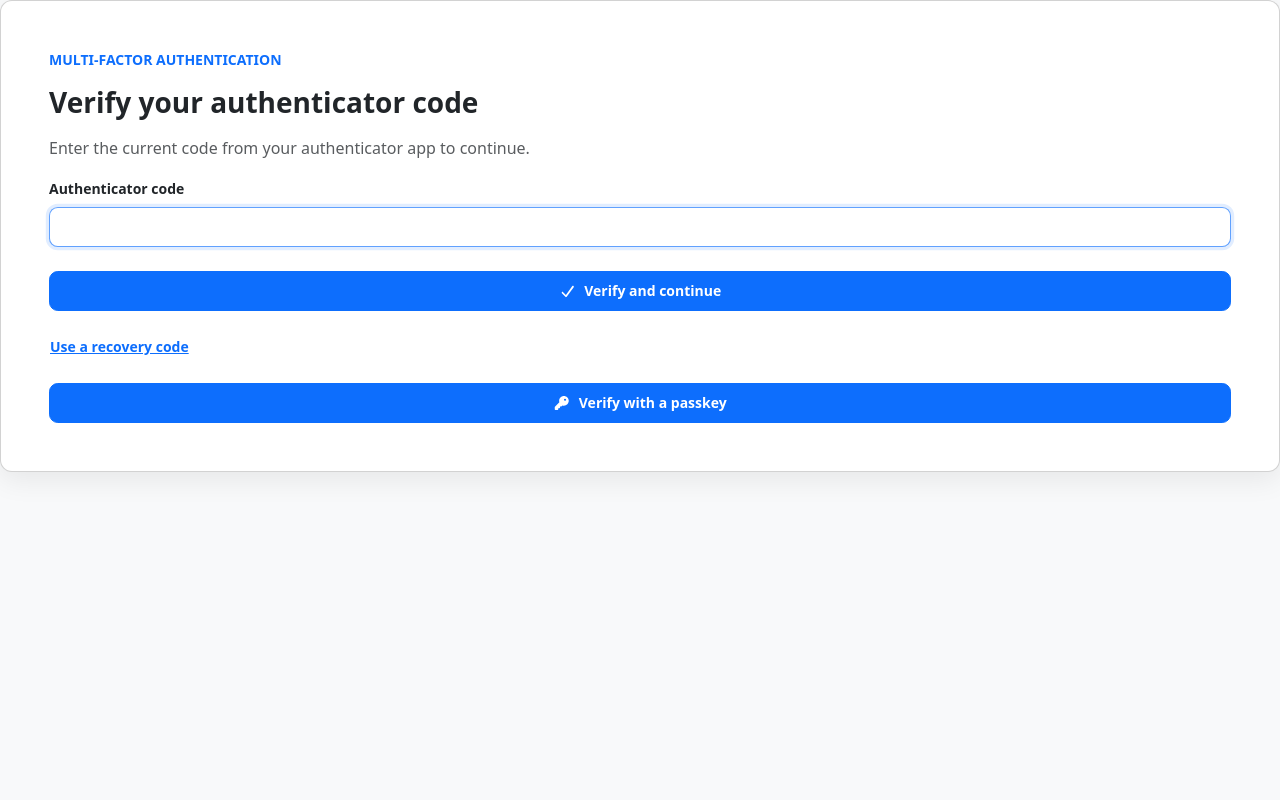
Test: MFA authentication pages › shows the fallback response message and catches a failed request
Type "123456" into the field labelled "Authenticator code" at (640, 227), box [49,207,1231,247]
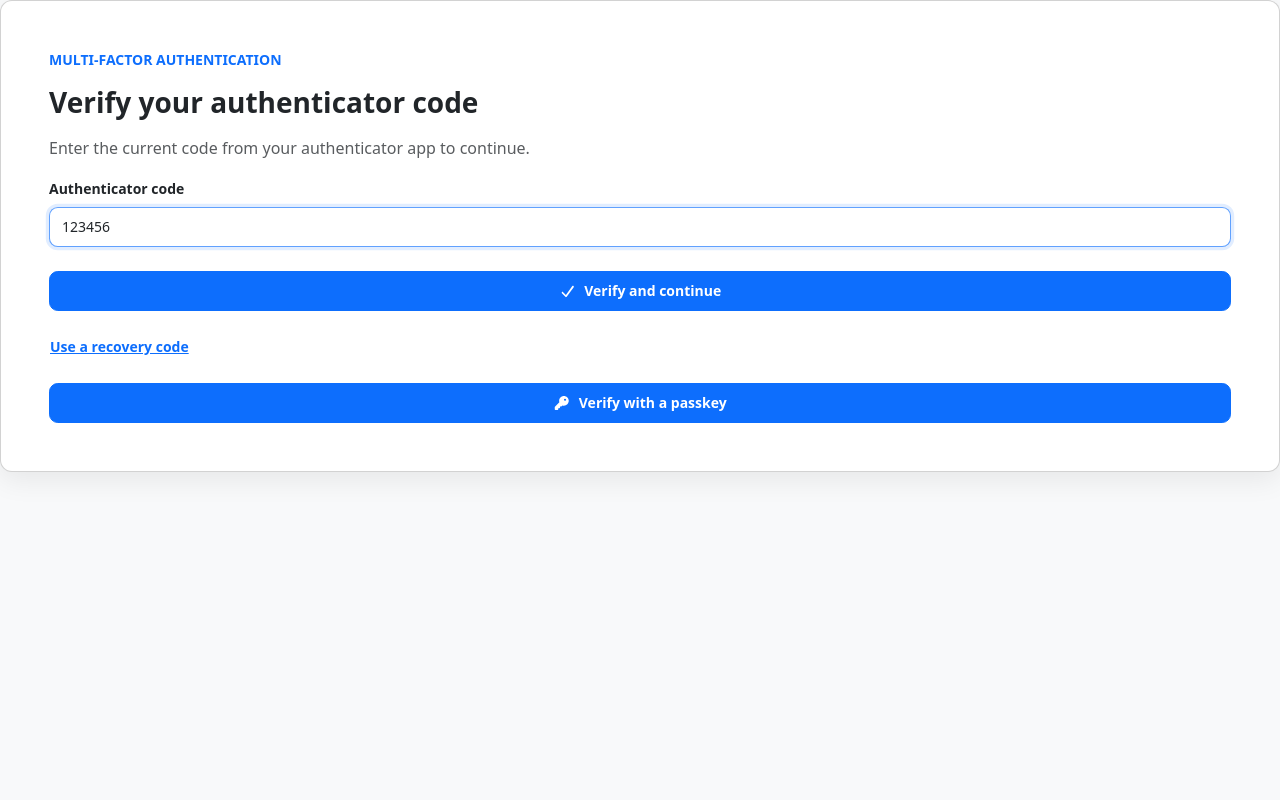
Click the button "Verify and continue" at (640, 291), box [49,271,1231,311]
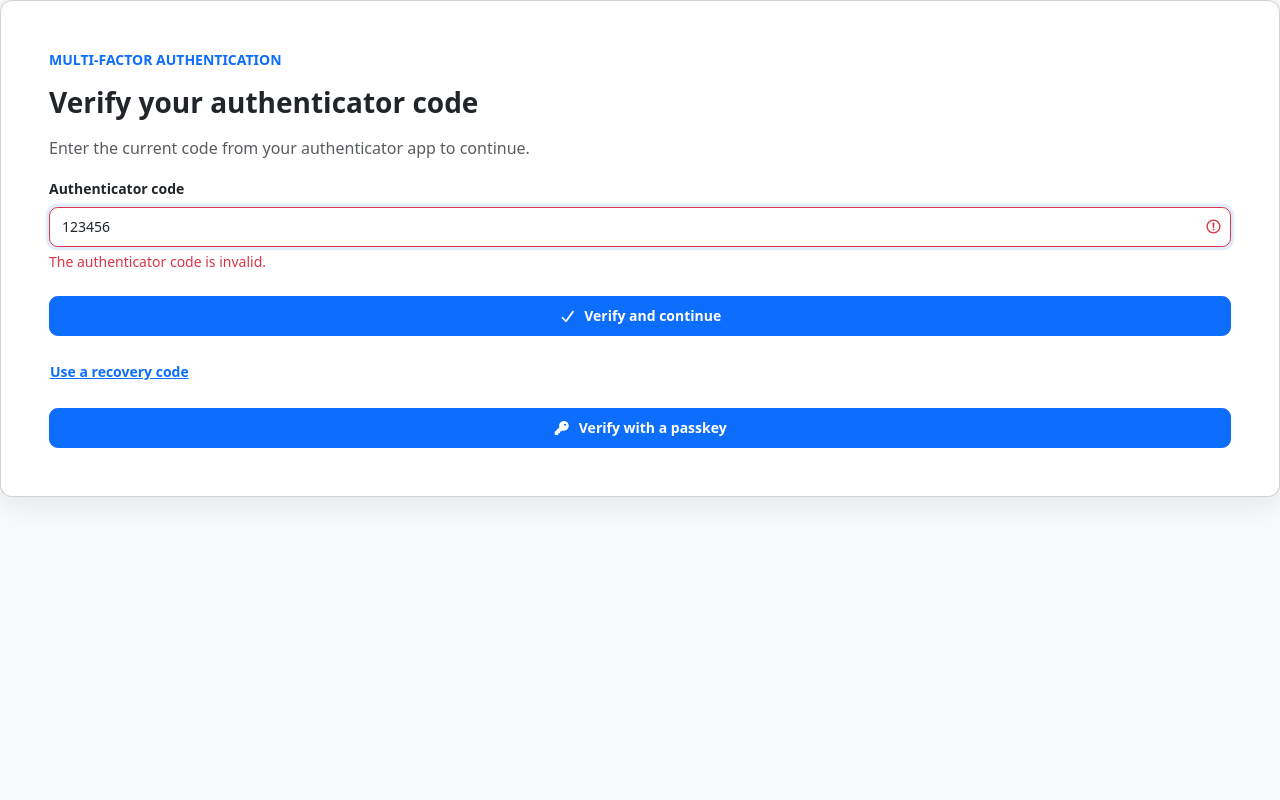
Check: the text "The authenticator code is invalid." is shown, box [49,252,266,271]
Replace the text in the field labelled "Authenticator code" with "654321" at (640, 227), box [49,207,1231,247]
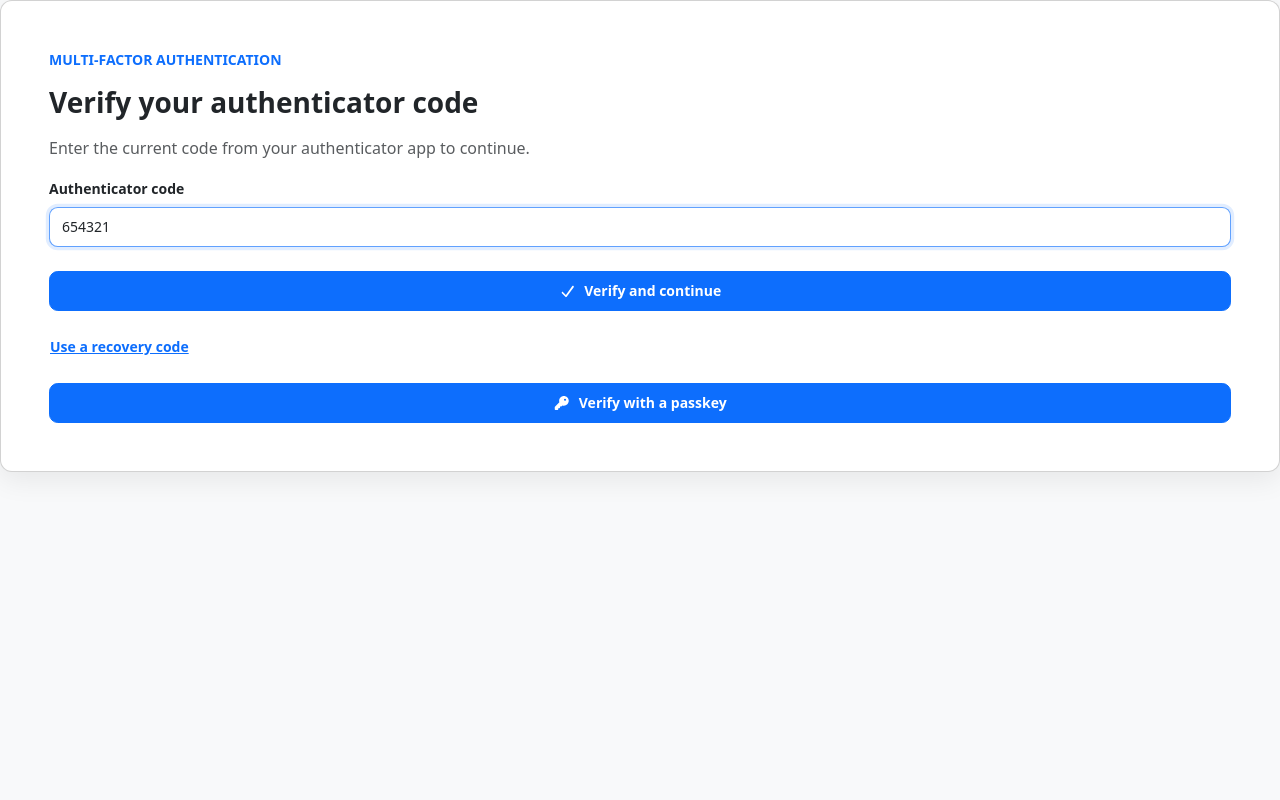
Click the button "Verify and continue" at (640, 291), box [49,271,1231,311]
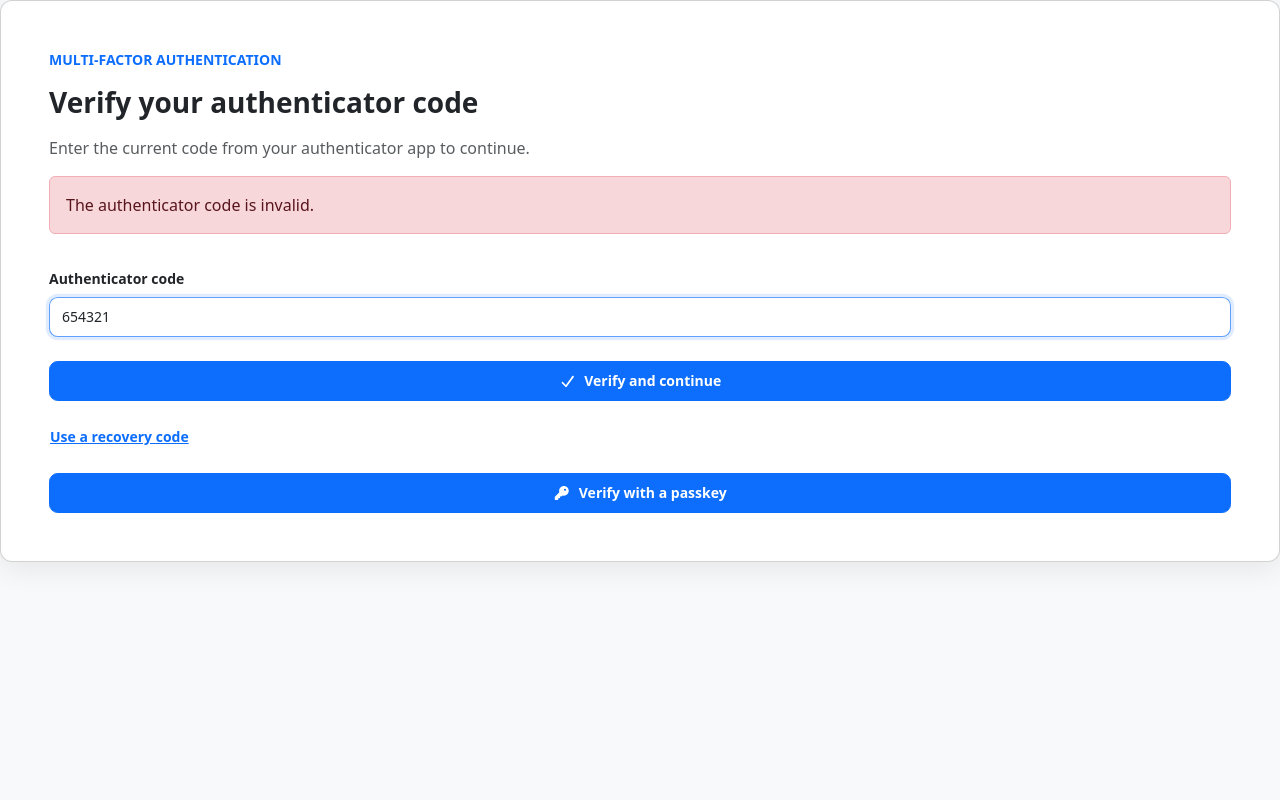
Check: the message reads "The authenticator code is invalid.", box [66,194,314,216]
